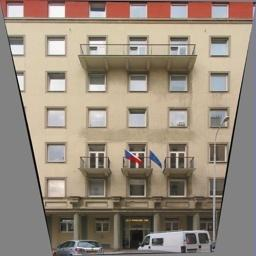building: (2, 0, 256, 256)
